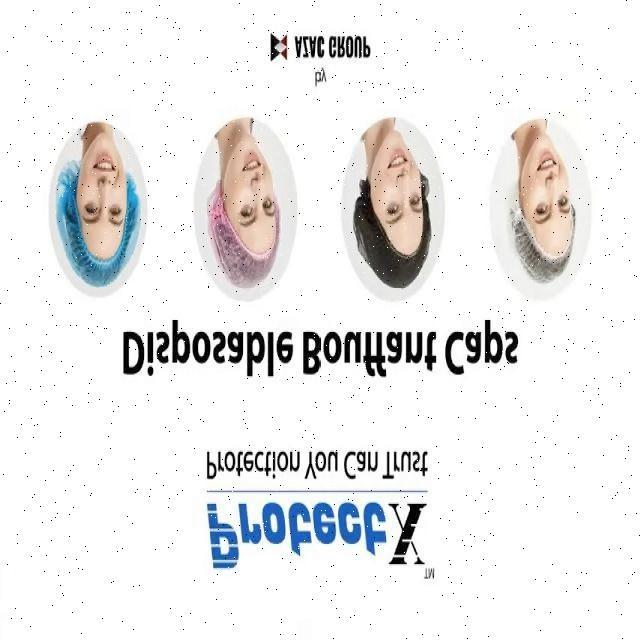no_hairnet: (366, 147, 414, 204), (78, 150, 126, 200), (226, 146, 266, 202), (524, 148, 566, 200)
